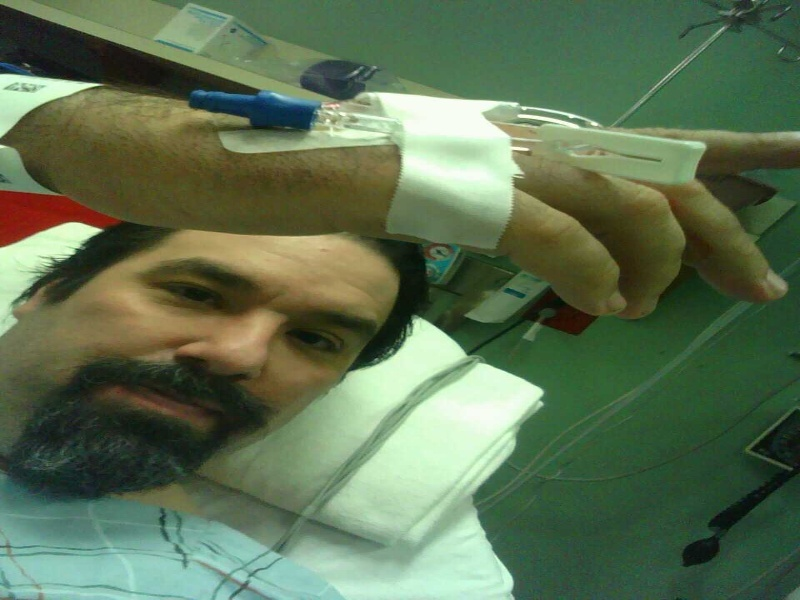face: (31, 201, 407, 487)
